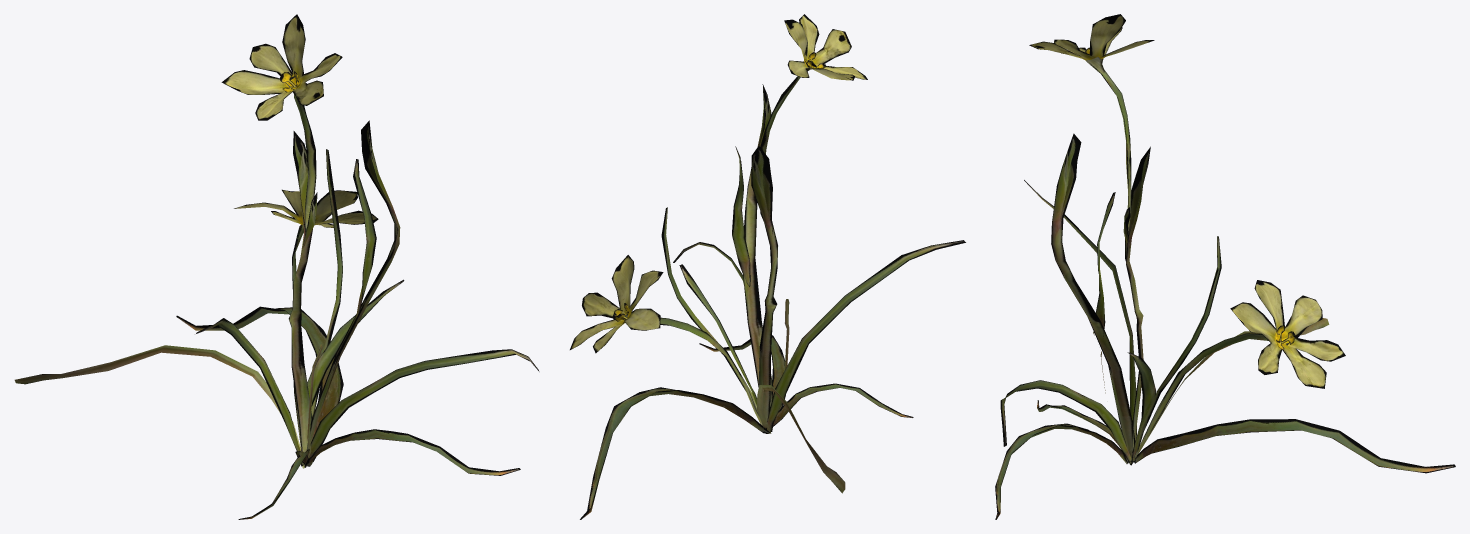
Rendered from flower_empodium.glb.
3 renders of one model, left to right at view 1: azimuth 30°, elevation 25°; view 2: azimuth 150°, elevation 25°; view 3: azimuth 270°, elevation 25°, orthographic. The views are drawn at different scales.
Visible parts, largest first — view 1: flower_empodium_a_LOD0; view 2: flower_empodium_a_LOD0; view 3: flower_empodium_a_LOD0.
Boxes of the visible parts, box(x1,y1,x2,y2) form: flower_empodium_a_LOD0: box(14, 14, 539, 519); flower_empodium_a_LOD0: box(570, 14, 965, 519); flower_empodium_a_LOD0: box(995, 14, 1455, 519).
Bounding box in the file's own units: 0.2174 × 0.2671 × 0.2508.
Materials: 1 (1 with a texture image).
